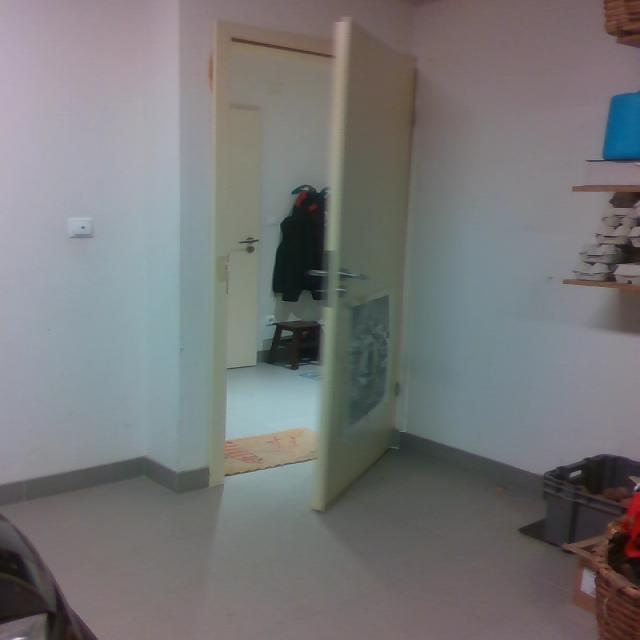door: (308, 14, 427, 522)
